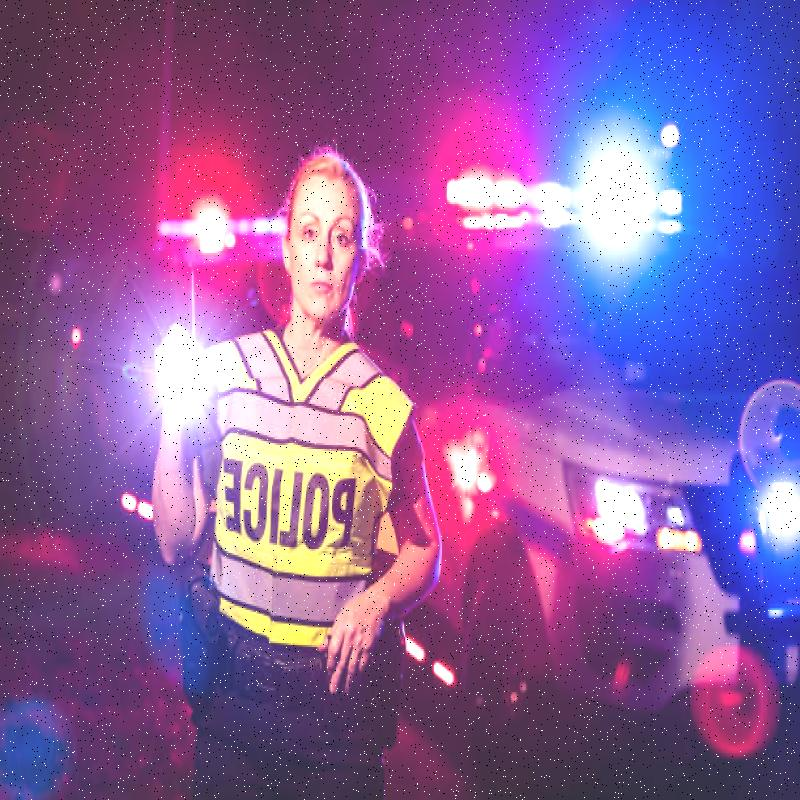AmbulanceSiren: (404, 160, 702, 254), (173, 189, 273, 260)
